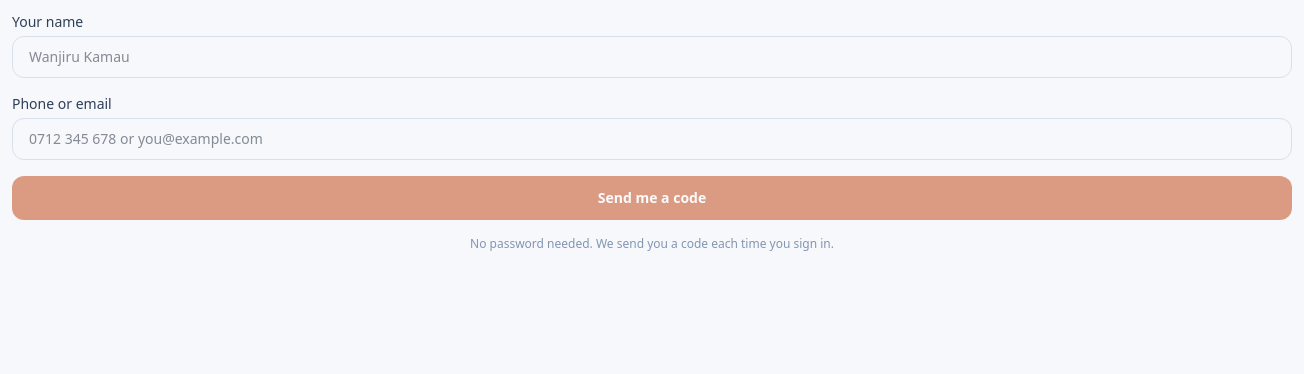
Test: JoinForm › offers a channel choice for a phone once a phone channel exists
Type "ada@example.com" into the field labelled "Phone or email" at x=652, y=139, box [12, 118, 1292, 160]
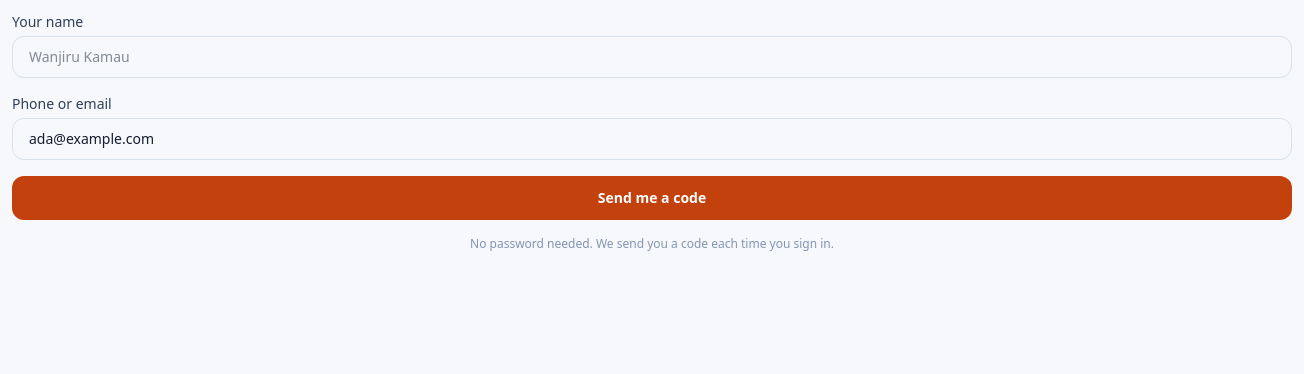
Expected: the button "WhatsApp" is not shown
Replace the text in the field labelled "Phone or email" with "0712345678" at x=652, y=139, box [12, 118, 1292, 160]
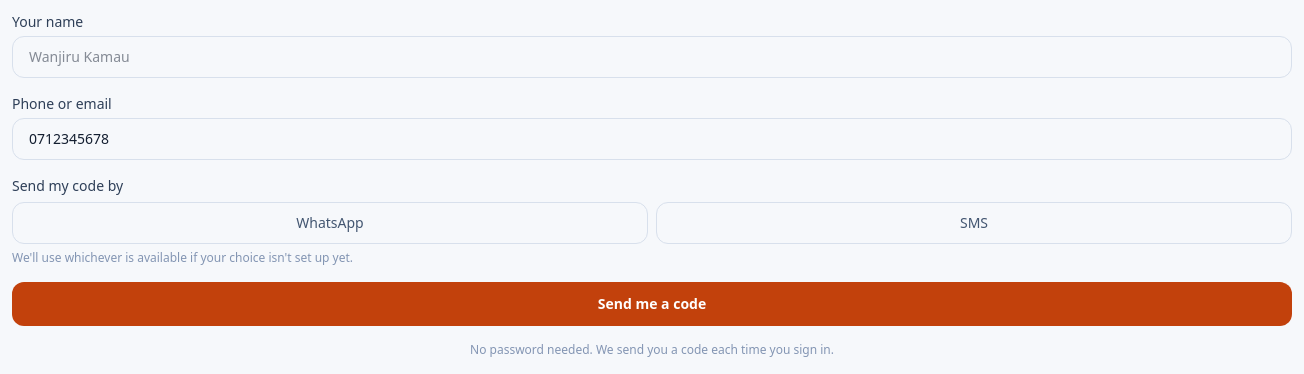
Expected: the button "WhatsApp" is shown, [12, 202, 648, 244]
Expected: the button "SMS" is shown, [656, 202, 1292, 244]
